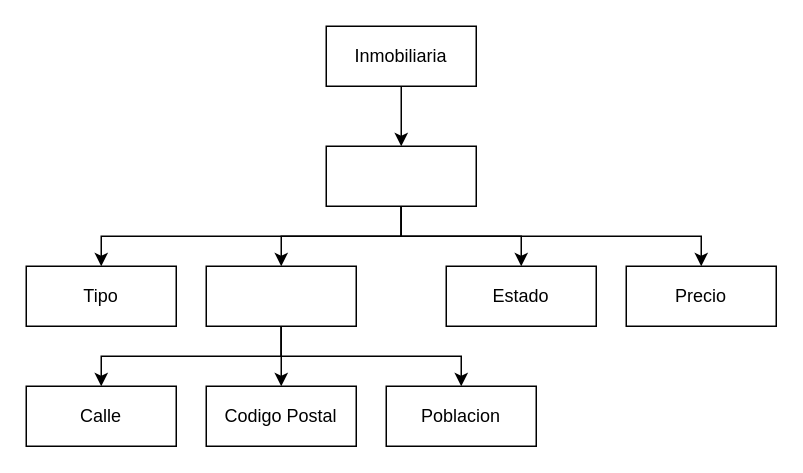
Image size: 803x473. Some labels were removed from this diagram. The centre of each missing label's shape, as x and y in pixels:
Direccion: [280,295]
Vivienda: [400,175]
